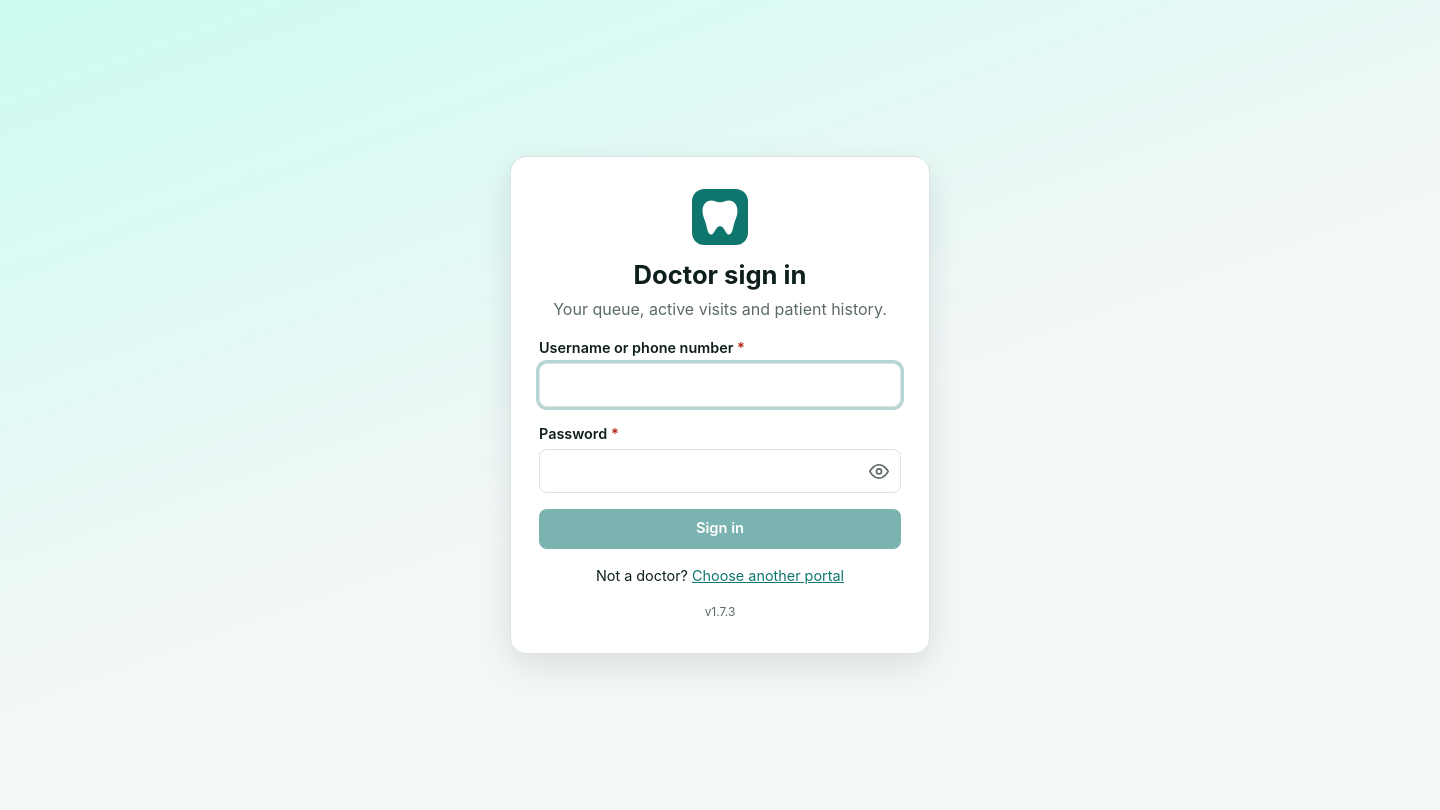
role login pages (AUTH-001, S02-PWA-01..03) › shows the server message when the account belongs to another portal
Type "01000000004" into the field labelled "Username or phone number *" at (720, 385), box [539,363,901,407]
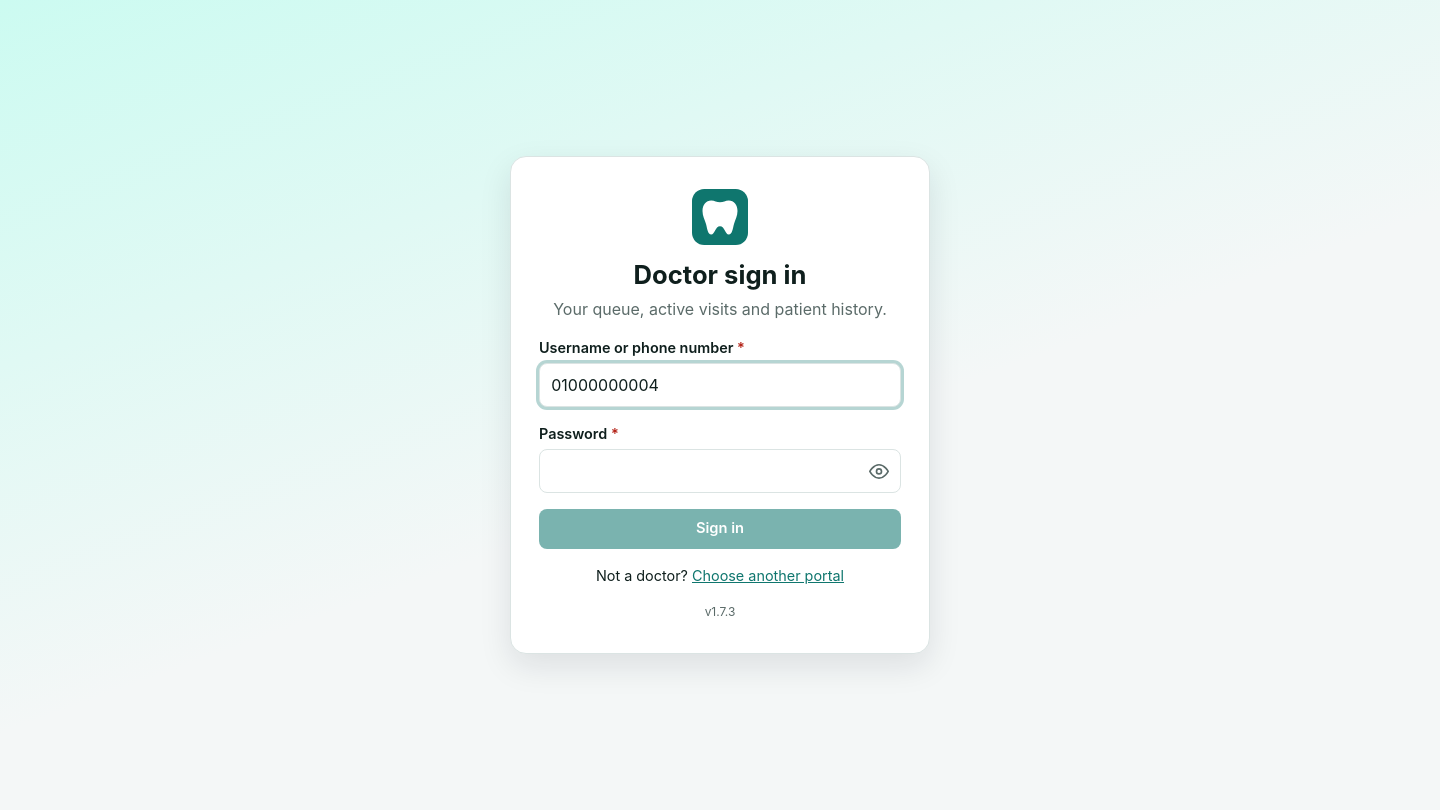
Type "secret-pass" into the password field labelled "Password *" at (720, 471), box [539,449,901,493]
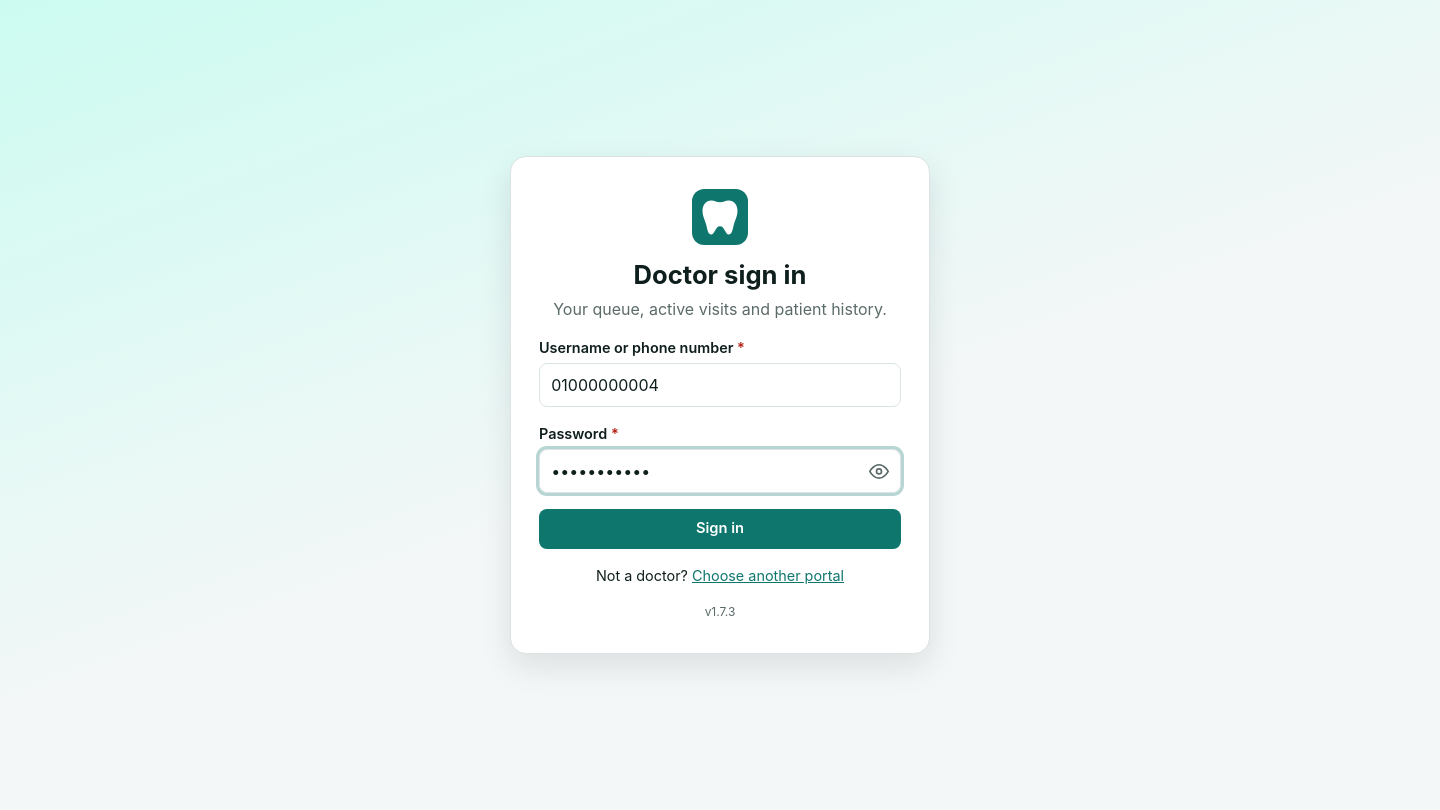
Click the button "Sign in" at (720, 529), box [539,509,901,549]
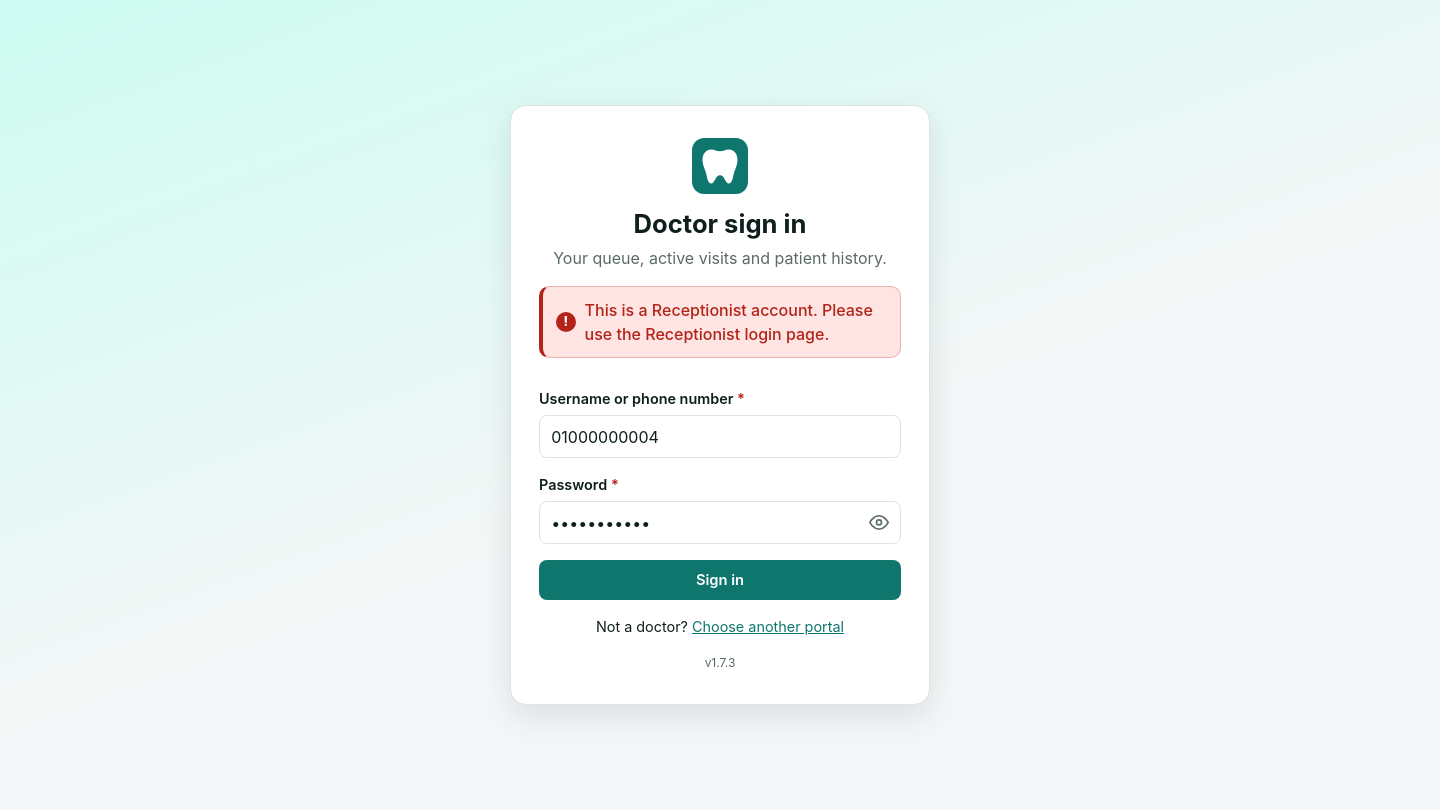
Result: the message shows "Receptionist login page" at [585,300,873,344]
